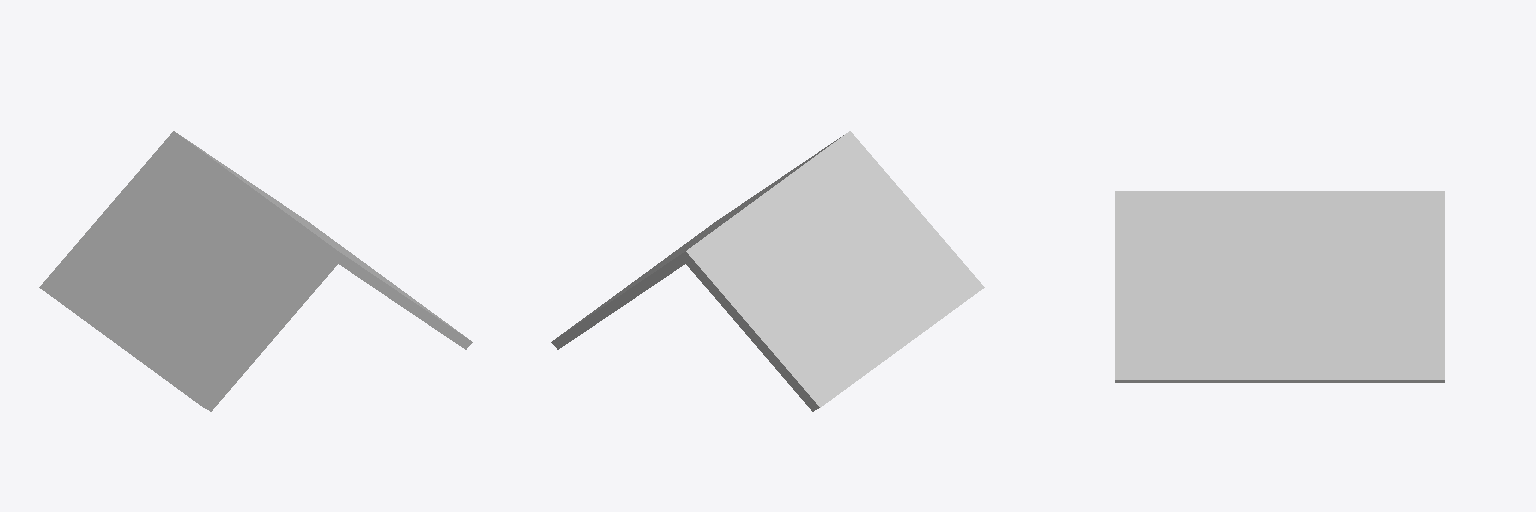
Rendered from Home_Roof.obj.
3 views of the same model, side by side, from view 1: azimuth 30°, elevation 25°; view 2: azimuth 150°, elevation 25°; view 3: azimuth 270°, elevation 25° (orthographic).
Parts seen in each view (by area): view 1: Cube.001; view 2: Cube.001; view 3: Cube.001.
Part boxes in pixels (left/top/right/bottom): Cube.001: left=39, top=131, right=472, bottom=411; Cube.001: left=551, top=131, right=984, bottom=411; Cube.001: left=1115, top=191, right=1444, bottom=382.
Bounding box in the file's own units: 6.3 × 2.91 × 6.67.